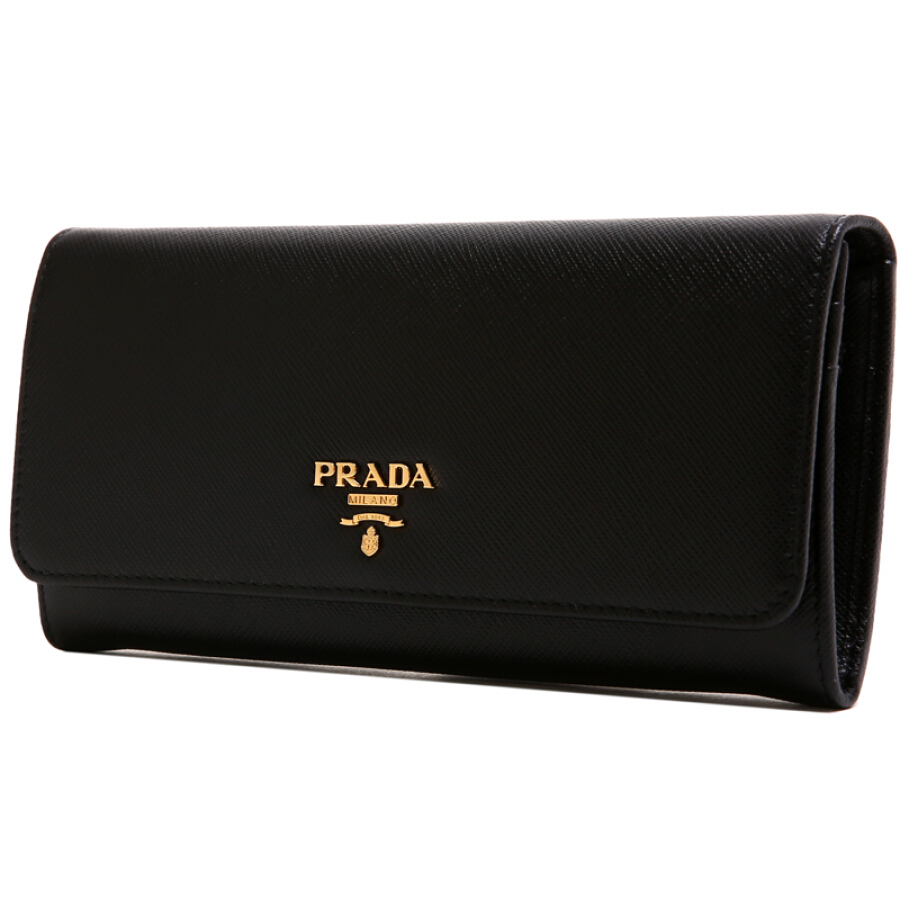Prada: (308, 451, 437, 496)
